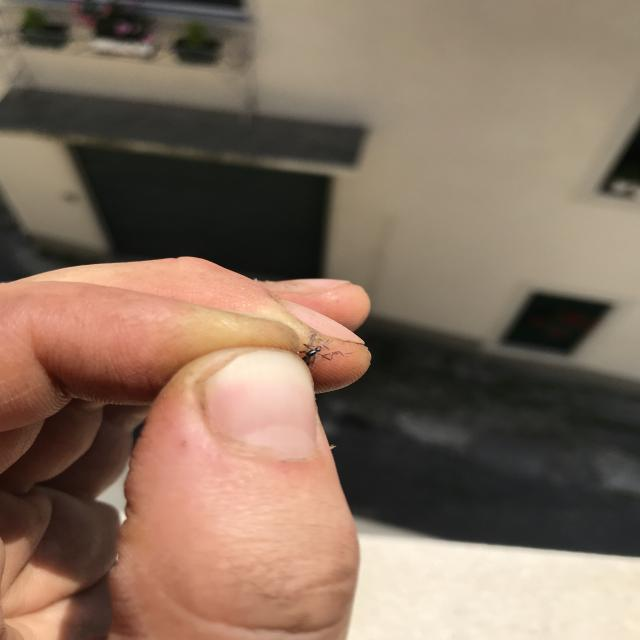albopictus: (286, 326, 365, 374)
